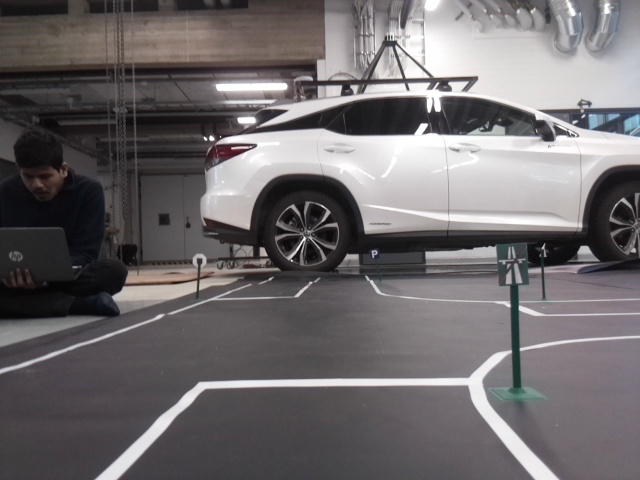HighwayExit: (496, 244, 526, 283)
